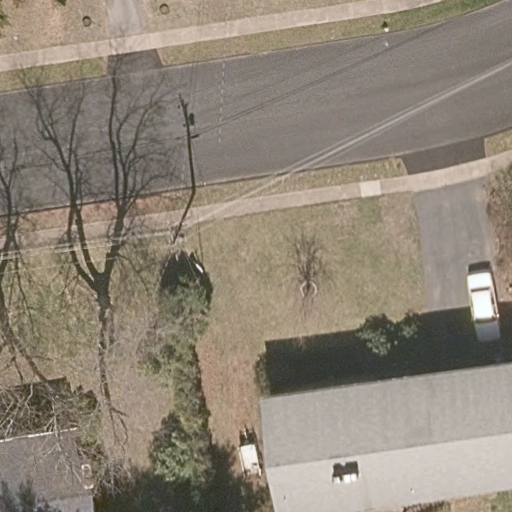DT: (167, 187, 200, 246)
